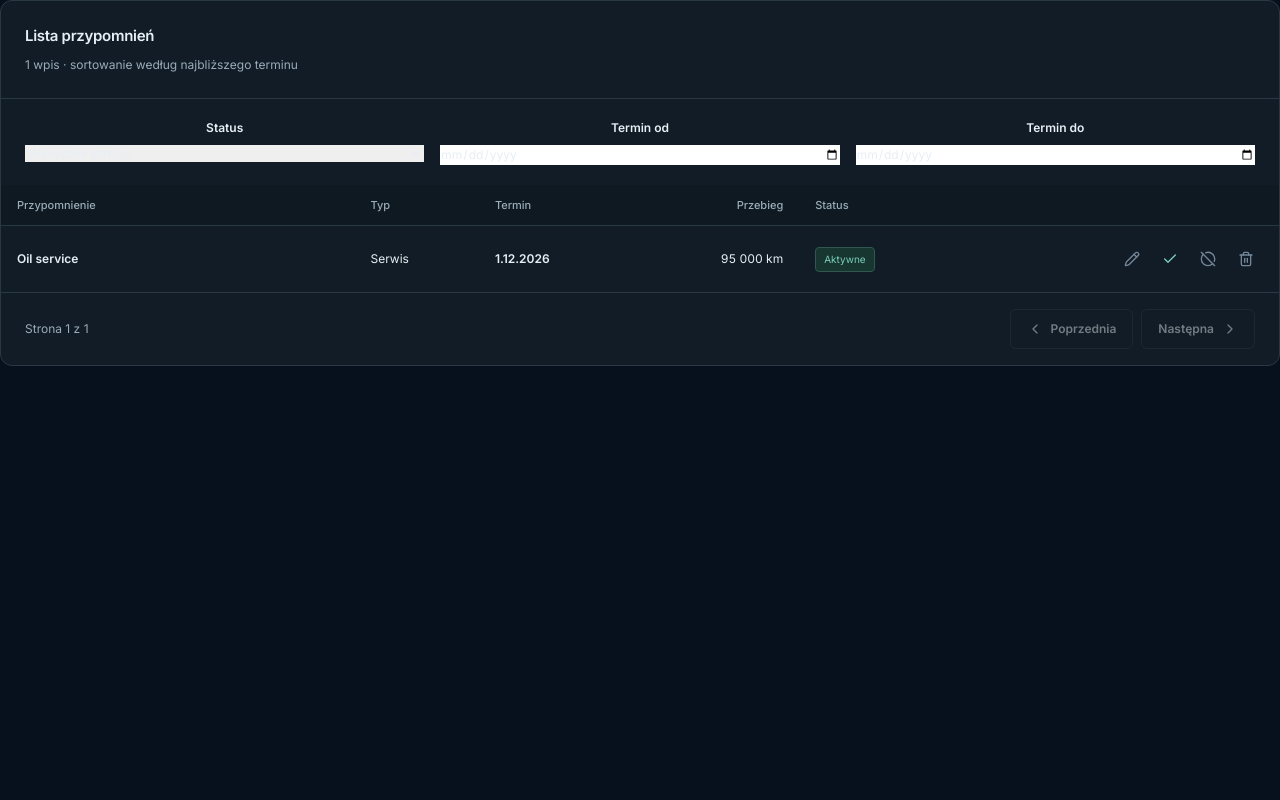
it: RemindersContent › removes the final row after successful DELETE and refreshes the query
Click the button named "Usuń przypomnienie: Oil service": (1246, 259) [1229,242,1263,276]
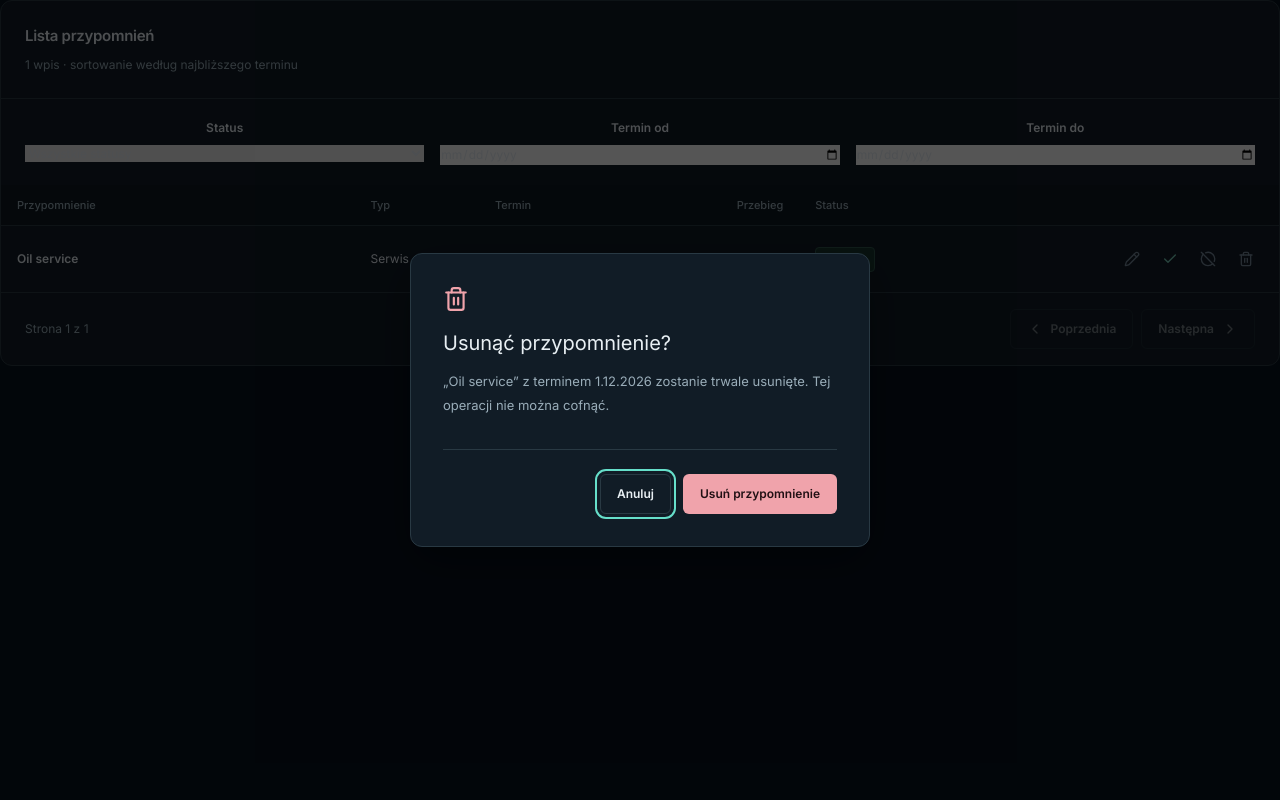
Click the button "Usuń przypomnienie": (760, 494) [683,474,837,514]
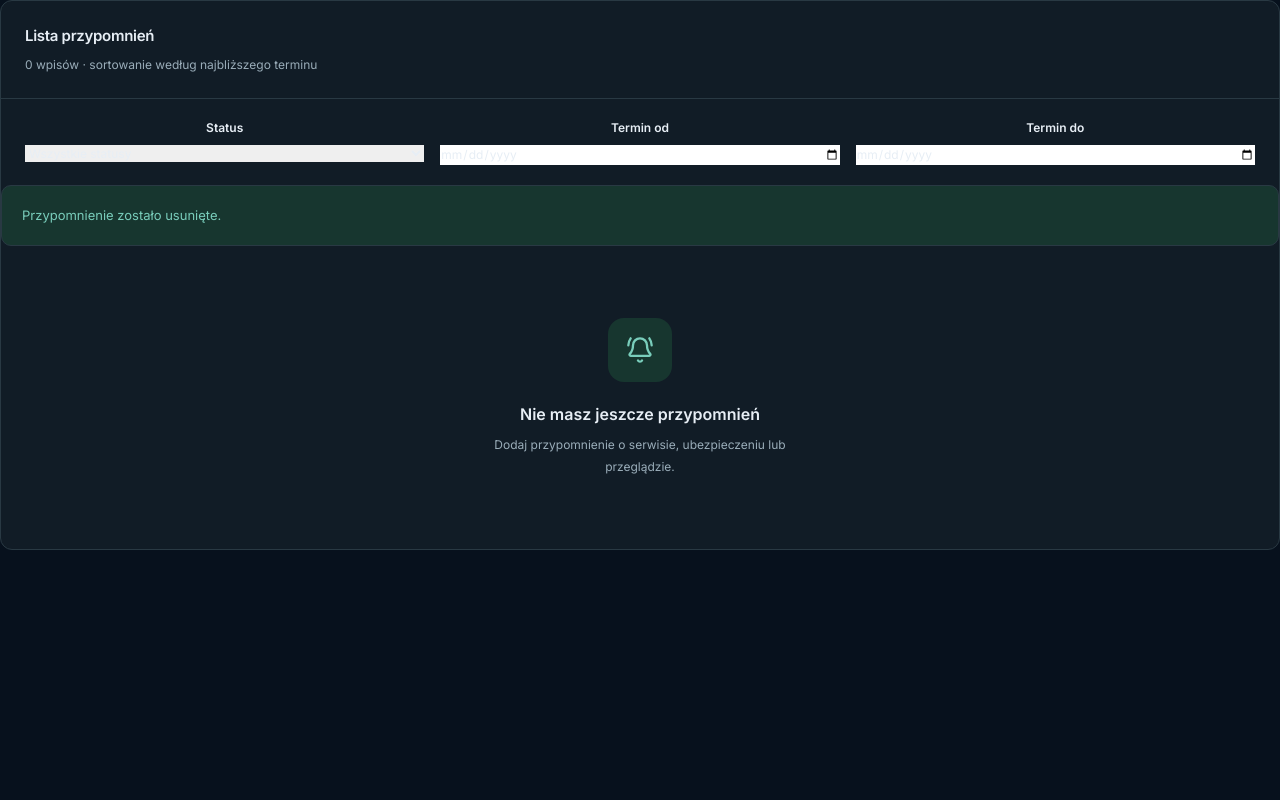
expect the heading "Nie masz jeszcze przypomnień" is shown: met, box [520,404,760,424]
